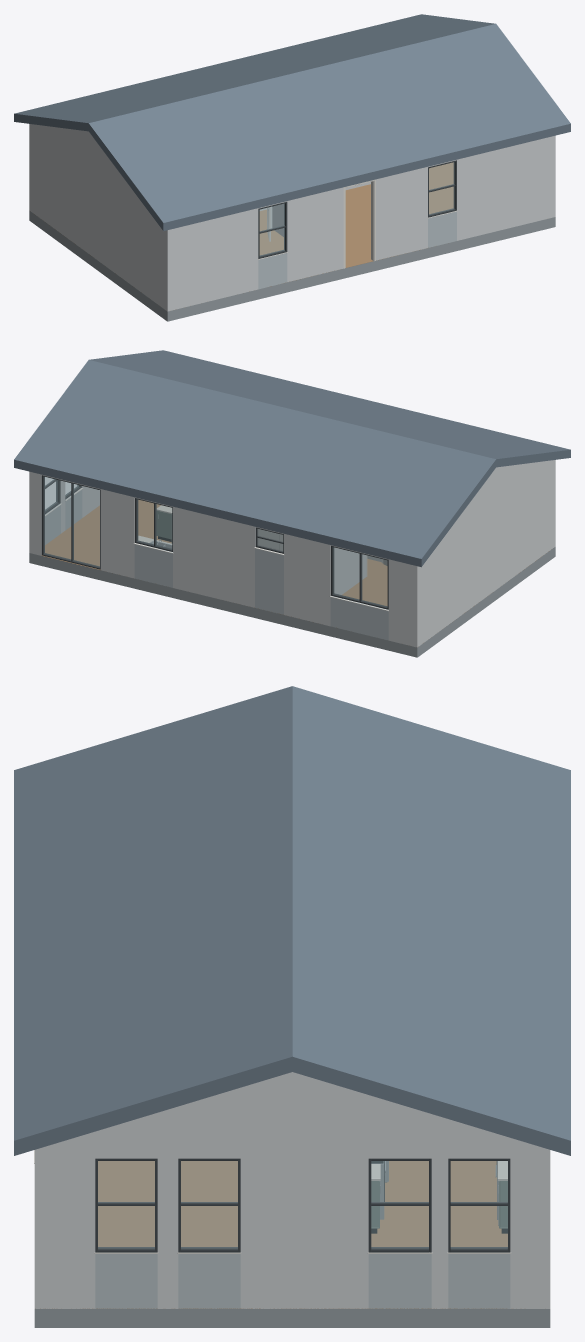
File: jacob-sweet-detail.glb
3 renders of one model, top to bottom at view 1: azimuth 30°, elevation 25°; view 2: azimuth 150°, elevation 25°; view 3: azimuth 270°, elevation 25°, orthographic. The views are drawn at different scales.
Visible parts, largest first — view 1: Roof slope 1 | section profile, CAD wall 07 | polygon 07, Roof slope 2 | section profile, CAD wall 14 | polygon 12, CAD wall 08 | polygon 07, Floor | 12 inch assembly from section, CAD wall 12 | polygon 10, CAD wall 01 | polygon 01, Oak floor finish, south opening 01 | sill infill, south opening 03 | sill infill, south opening 03 glass (+3 smaller); view 2: Roof slope 2 | section profile, Roof slope 1 | section profile, CAD wall 08 | polygon 07, CAD wall 04 | polygon 04, CAD wall 07 | polygon 07, Floor | 12 inch assembly from section, CAD wall 06 | polygon 06, Oak floor finish, CAD wall 03 | polygon 03, north opening 04 glass, north opening 04 glass.001, north opening 01 | sill infill (+11 smaller); view 3: Roof slope 1 | section profile, Roof slope 2 | section profile, Oak floor finish, CAD wall 10 | polygon 08, CAD wall 09 | polygon 08, CAD wall 14 | polygon 12, Floor | 12 inch assembly from section, CAD wall 05 | polygon 05, CAD wall 13 | polygon 11, east opening 02 | above header, east opening 03 | sill infill, east opening 03 | above header (+14 smaller).
Part boxes in pixels (<box>): Roof slope 1 | section profile: <box>88,24,570,231</box>; CAD wall 07 | polygon 07: <box>98,145,258,311</box>; Roof slope 2 | section profile: <box>14,14,495,131</box>; CAD wall 14 | polygon 12: <box>457,135,555,240</box>; CAD wall 08 | polygon 07: <box>29,124,98,260</box>; Floor | 12 inch assembly from section: <box>29,211,555,321</box>; CAD wall 12 | polygon 10: <box>271,187,343,281</box>; CAD wall 01 | polygon 01: <box>376,167,427,260</box>; Oak floor finish: <box>34,162,453,292</box>; south opening 01 | sill infill: <box>258,253,287,289</box>; south opening 03 | sill infill: <box>428,211,456,247</box>; south opening 03 glass: <box>429,186,454,214</box>; Roof slope 2 | section profile: <box>14,360,496,567</box>; Roof slope 1 | section profile: <box>89,350,570,467</box>; CAD wall 08 | polygon 07: <box>388,481,486,647</box>; CAD wall 04 | polygon 04: <box>173,506,366,607</box>; CAD wall 07 | polygon 07: <box>367,460,555,596</box>; Floor | 12 inch assembly from section: <box>29,547,555,657</box>; CAD wall 06 | polygon 06: <box>284,534,330,626</box>; Oak floor finish: <box>41,500,551,646</box>; CAD wall 03 | polygon 03: <box>100,489,134,578</box>; north opening 04 glass: <box>73,484,99,566</box>; north opening 04 glass.001: <box>44,477,70,559</box>; north opening 01 | sill infill: <box>330,596,388,640</box>; Roof slope 1 | section profile: <box>14,686,292,1155</box>; Roof slope 2 | section profile: <box>292,686,570,1155</box>; Oak floor finish: <box>35,1161,507,1308</box>; CAD wall 10 | polygon 08: <box>292,1072,368,1308</box>; CAD wall 09 | polygon 08: <box>240,1072,292,1308</box>; CAD wall 14 | polygon 12: <box>34,1131,95,1308</box>; Floor | 12 inch assembly from section: <box>34,1309,550,1327</box>; CAD wall 05 | polygon 05: <box>510,1138,550,1308</box>; CAD wall 13 | polygon 11: <box>157,1106,178,1308</box>; east opening 02 | above header: <box>178,1087,240,1158</box>; east opening 03 | sill infill: <box>368,1254,431,1308</box>; east opening 03 | above header: <box>368,1095,431,1158</box>.
Size of the model in its own units: 12.88 by 4.54 by 8.18.
